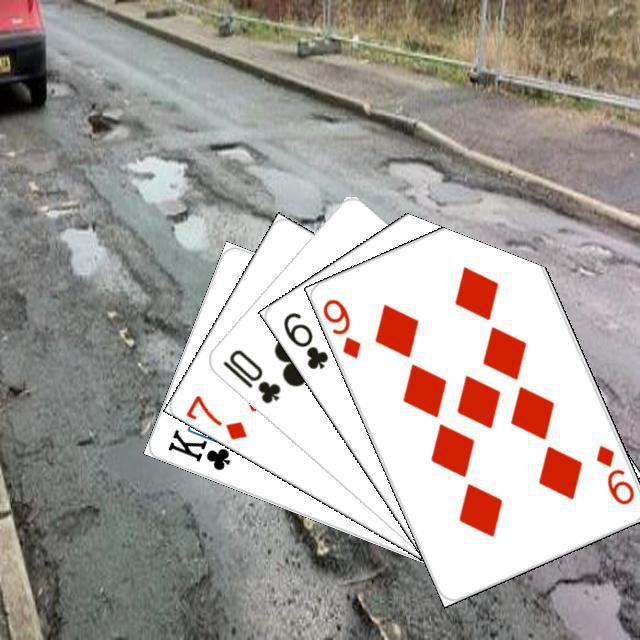10c: (217, 344, 282, 406)
6c: (278, 307, 331, 371)
7d: (181, 390, 249, 442)
9d: (590, 440, 636, 507), (318, 294, 363, 361)
Kc: (162, 422, 244, 473)
